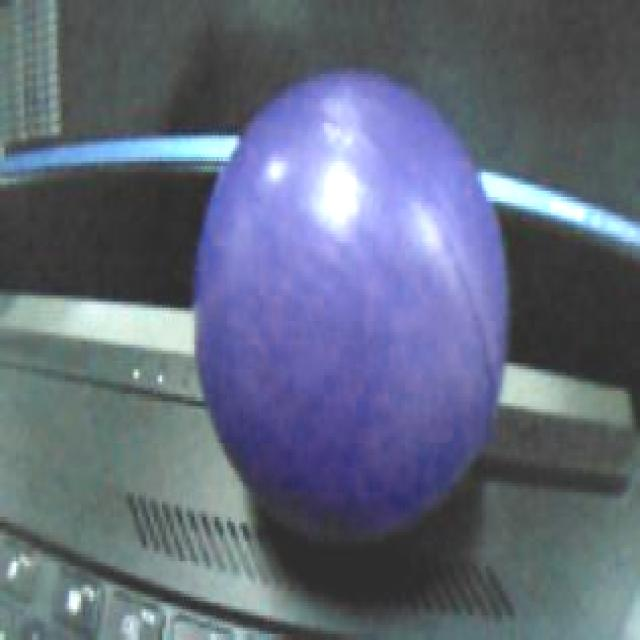BallPurple: (197, 70, 509, 535)
